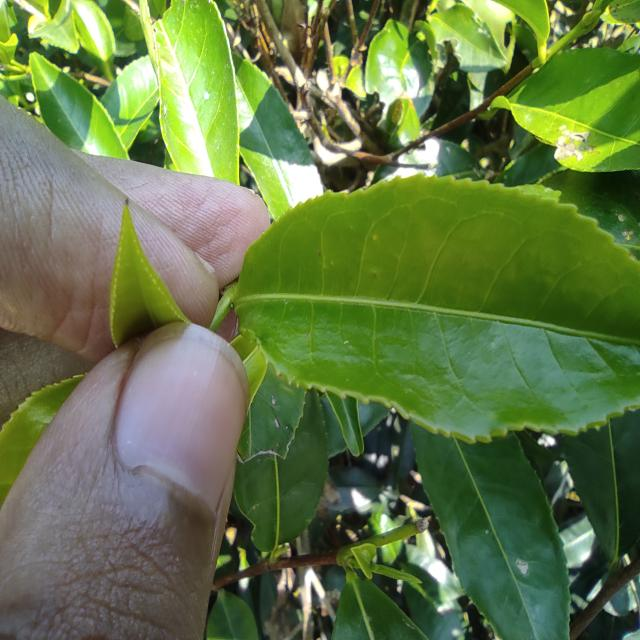Category C(4-7 days): (216, 179, 640, 453)
